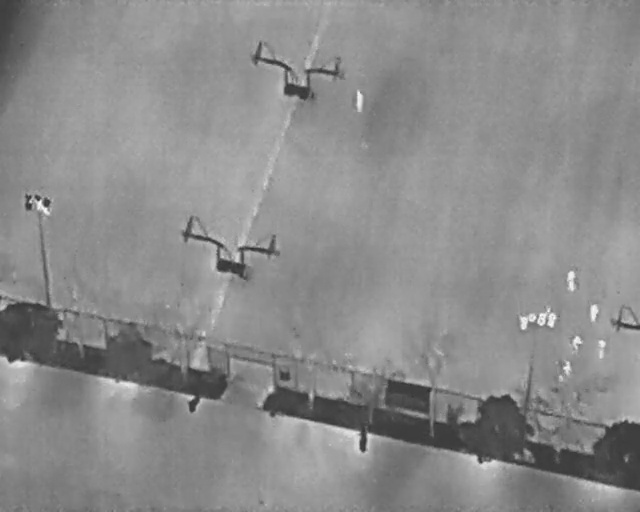Bicycle: (182, 391, 202, 417), (355, 426, 369, 453)
Person: (544, 310, 559, 331), (565, 269, 576, 294), (354, 89, 364, 115), (516, 314, 529, 333), (595, 338, 606, 360), (570, 335, 583, 353), (535, 311, 548, 329), (589, 302, 599, 324), (562, 359, 573, 378), (529, 312, 537, 323)
